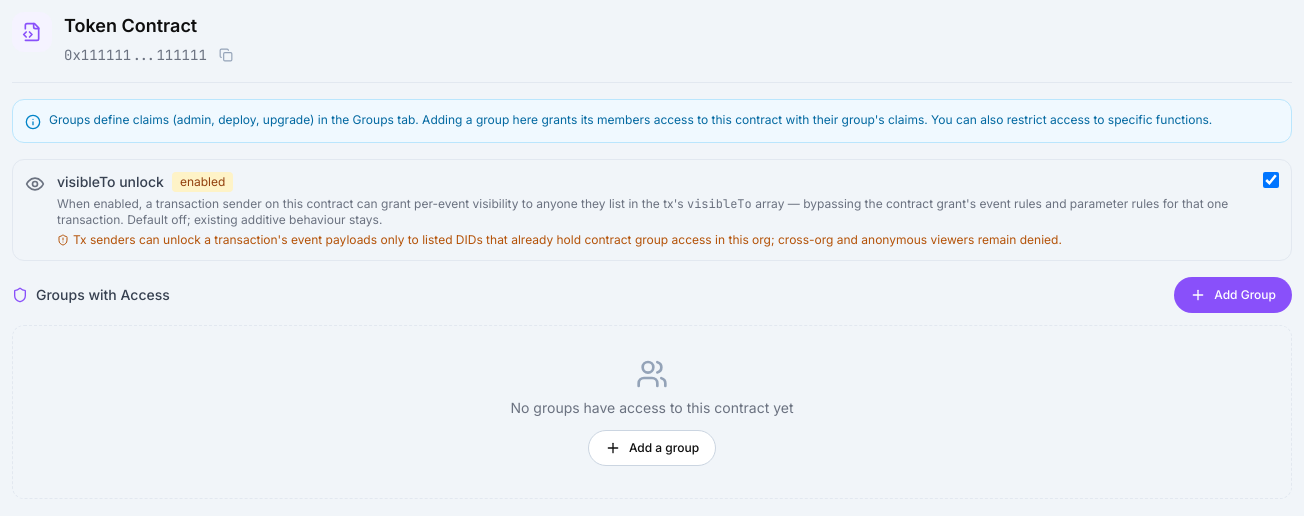
Scenario: ContractGrantsManager — event rules display › visibleTo unlock toggle (RD-874) › disabling does NOT prompt — applies immediately
The image size is (1304, 516).
Check: the text "Groups with Access" is shown, box 36,285 -> 170,305
Click the switch named "allow visibleto to unlock event visibility". click: (1271, 180)
box: 1263,172 -> 1279,188
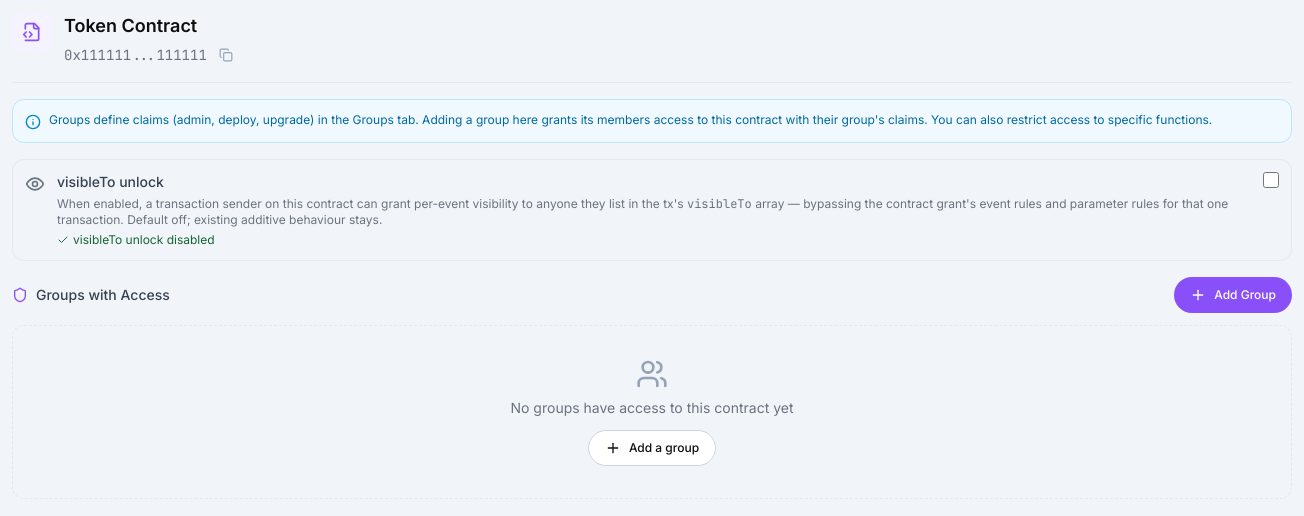
Check: the text "visibleTo unlock disabled" is shown, box 57,232 -> 215,247
